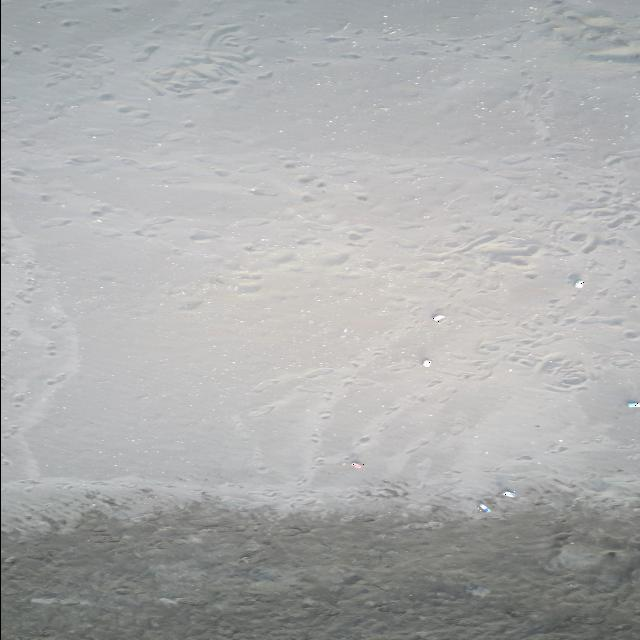Garbage: (464, 584, 489, 596), (432, 313, 444, 322), (477, 503, 491, 510), (500, 489, 515, 495), (628, 400, 639, 407), (352, 462, 364, 468), (573, 280, 584, 286), (423, 360, 430, 367)
